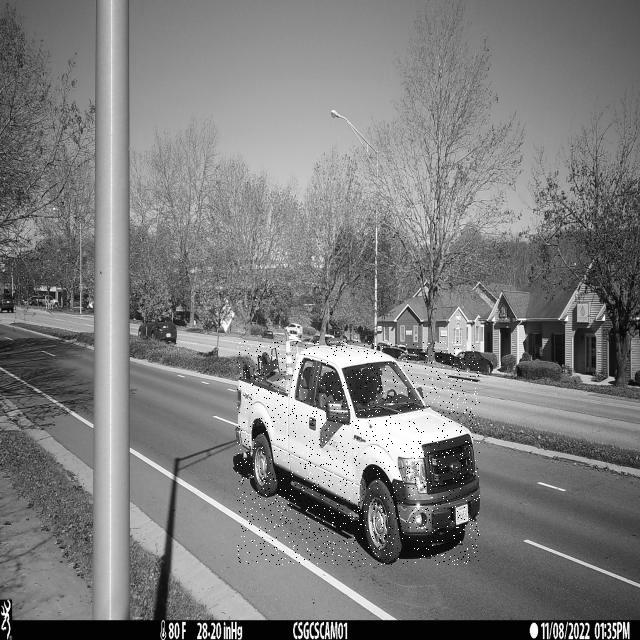Pickup: (237, 341, 480, 565)
